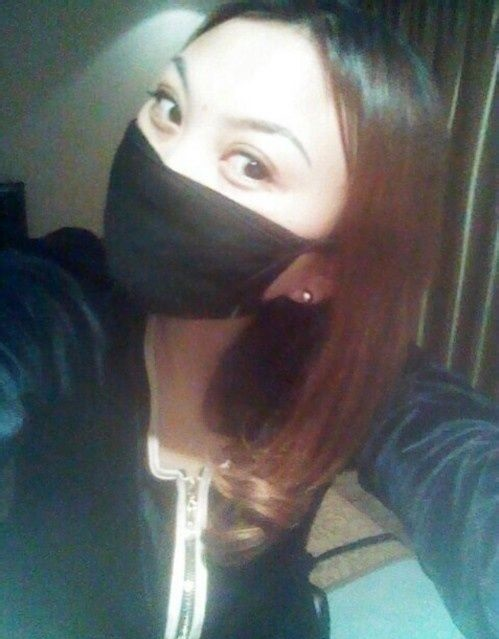face_mask: (117, 11, 350, 349)
